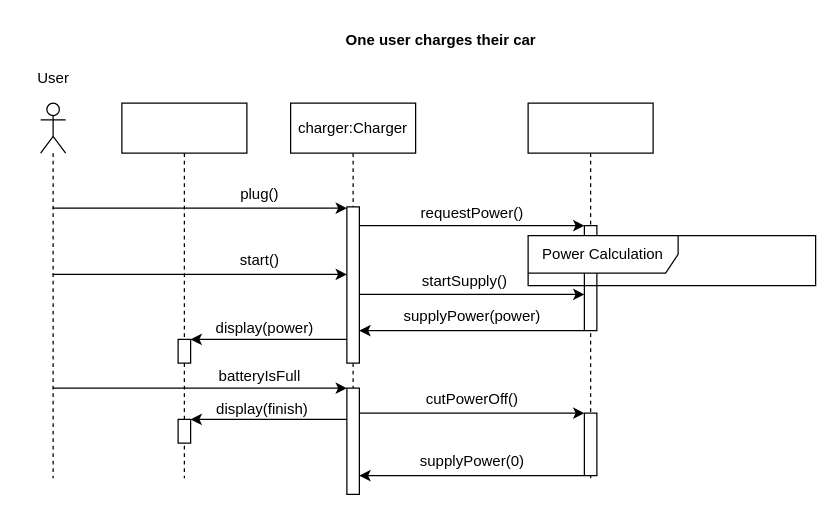
Some shapes in this 838 by 516 pixel diagram are drawn without their labels. Here are the shapes that lost their labels. From the top down, the box of each, then its label:
(121, 102, 247, 478): lcd:LCDScreen
(527, 102, 653, 478): sys:System
